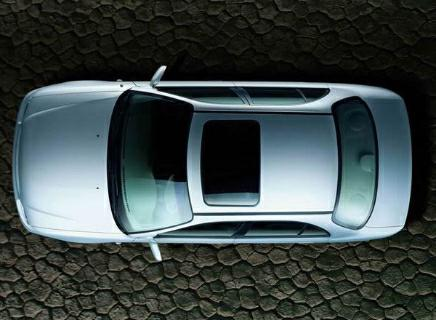起亚-千里马: (12, 60, 414, 265)
